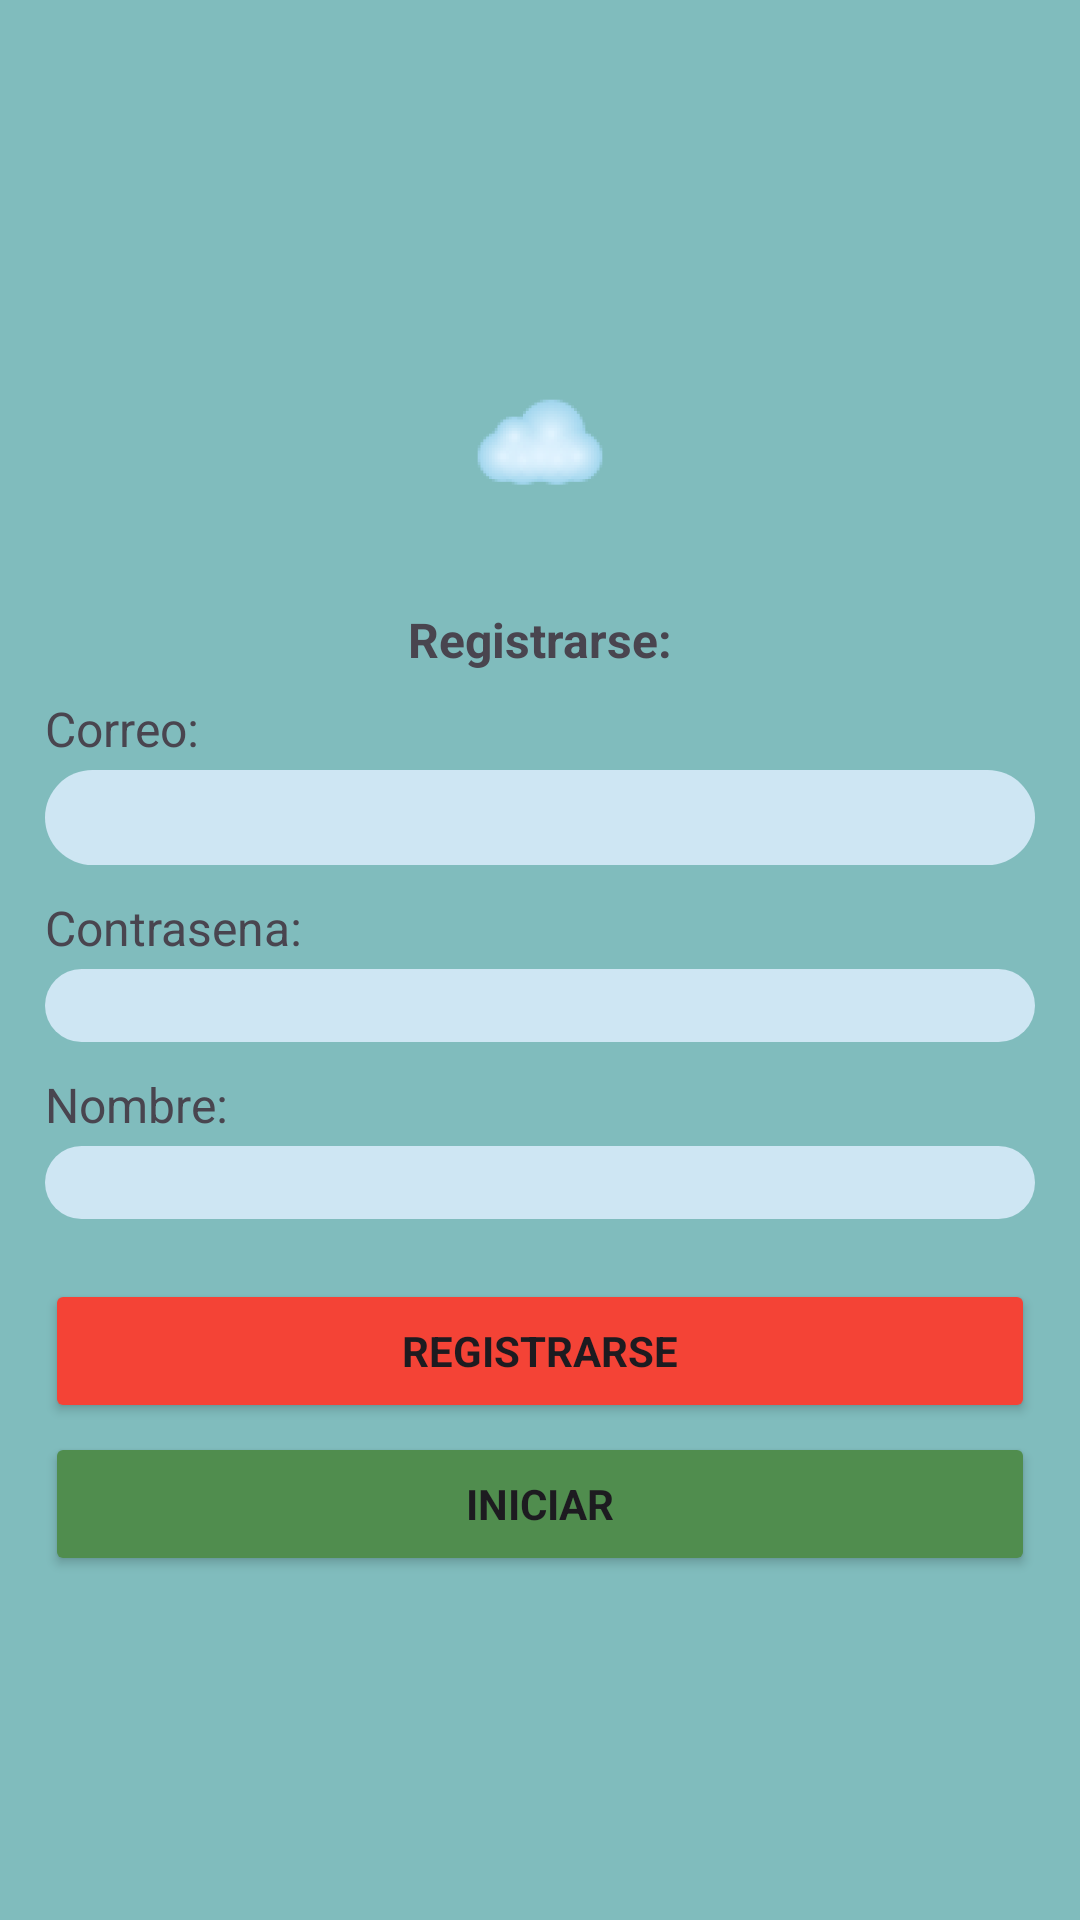

Icon click points for this 1080x1920 phone screenshot, format (x=x, y=y):
nube: (x=540, y=442)
